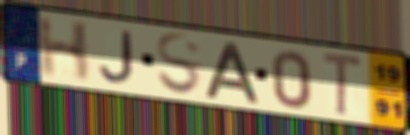0: (269, 47, 315, 112)
A: (203, 39, 262, 106)
H: (35, 16, 92, 84)
J: (97, 28, 136, 85)
S: (154, 31, 204, 99)
T: (321, 49, 366, 119)
